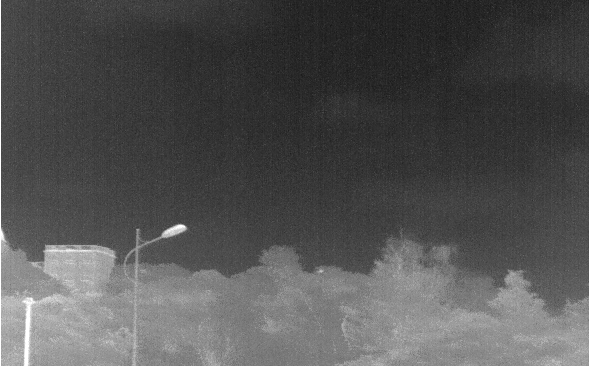dim target: (317, 267, 326, 274)
